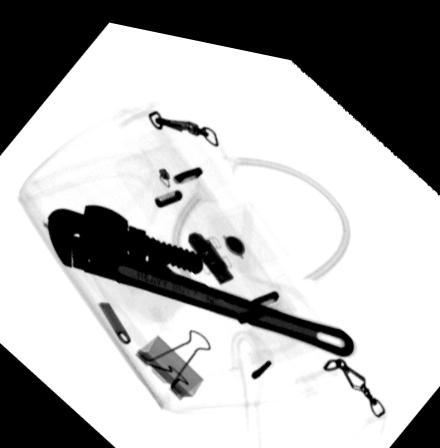Wrench: (45, 200, 357, 346)
